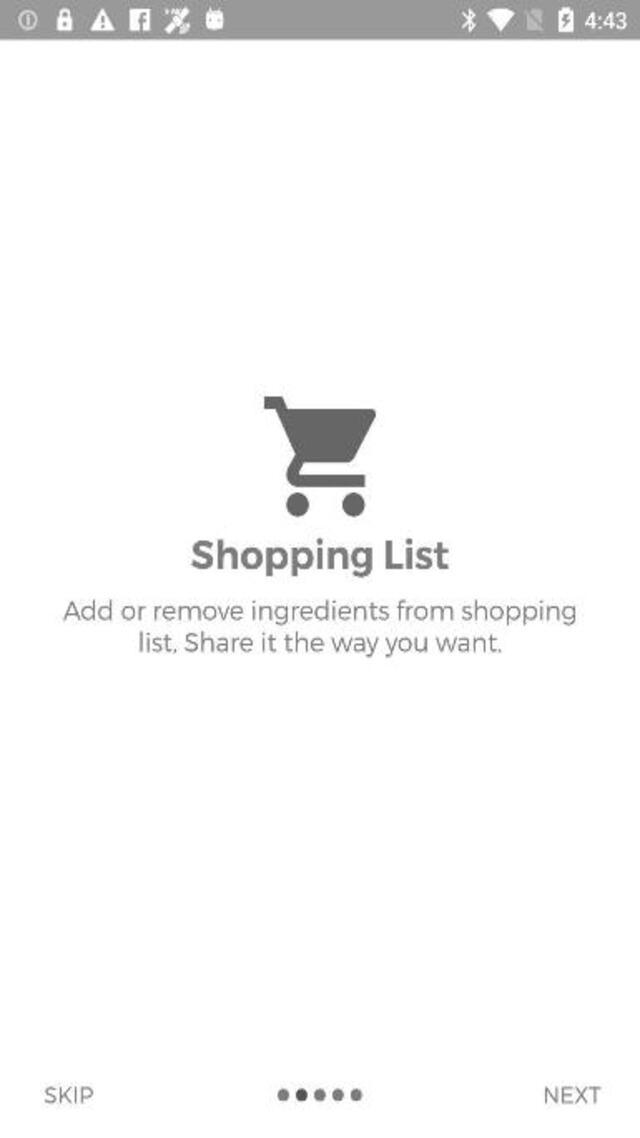Icon: (264, 396, 378, 518)
Text: (61, 598, 578, 628), (130, 629, 508, 658), (190, 537, 448, 576), (544, 1088, 600, 1104), (44, 1088, 92, 1104)
